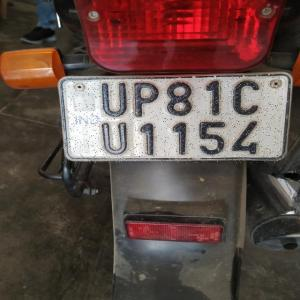Plate: (63, 77, 285, 163)
